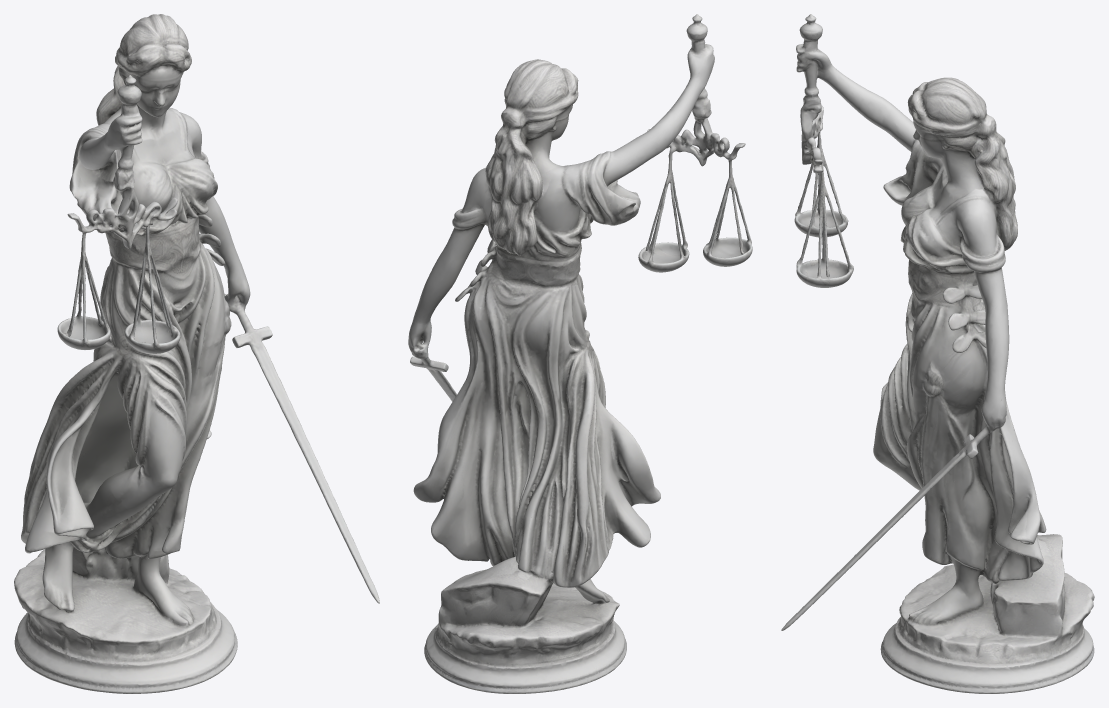
Rendered from lady-justice.glb.
3 views of the same model, side by side, from view 1: azimuth 30°, elevation 25°; view 2: azimuth 150°, elevation 25°; view 3: azimuth 270°, elevation 25° (orthographic). The views are drawn at different scales.
Bounding box in the file's own units: 0.8889 × 1.9 × 0.9013.
Materials: 1 (1 with a texture image).
